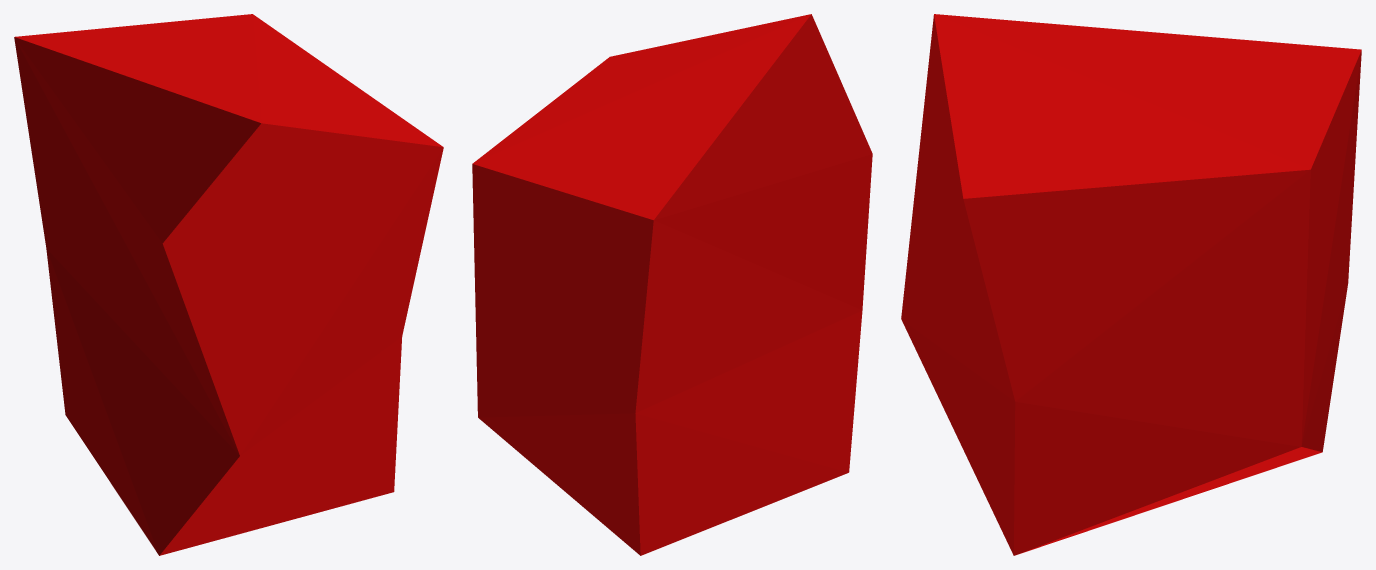
3 views of the same model, side by side, from view 1: azimuth 30°, elevation 25°; view 2: azimuth 150°, elevation 25°; view 3: azimuth 270°, elevation 25° (orthographic). The views are drawn at different scales.
Visible parts, largest first — view 1: Mesh; view 2: Mesh; view 3: Mesh.
Boxes of the visible parts, bbox=[...] form: Mesh: bbox=[14, 14, 443, 555]; Mesh: bbox=[472, 14, 872, 555]; Mesh: bbox=[901, 14, 1361, 555].
Bounding box in the file's own units: 0.7375 × 1.11 × 1.02.
